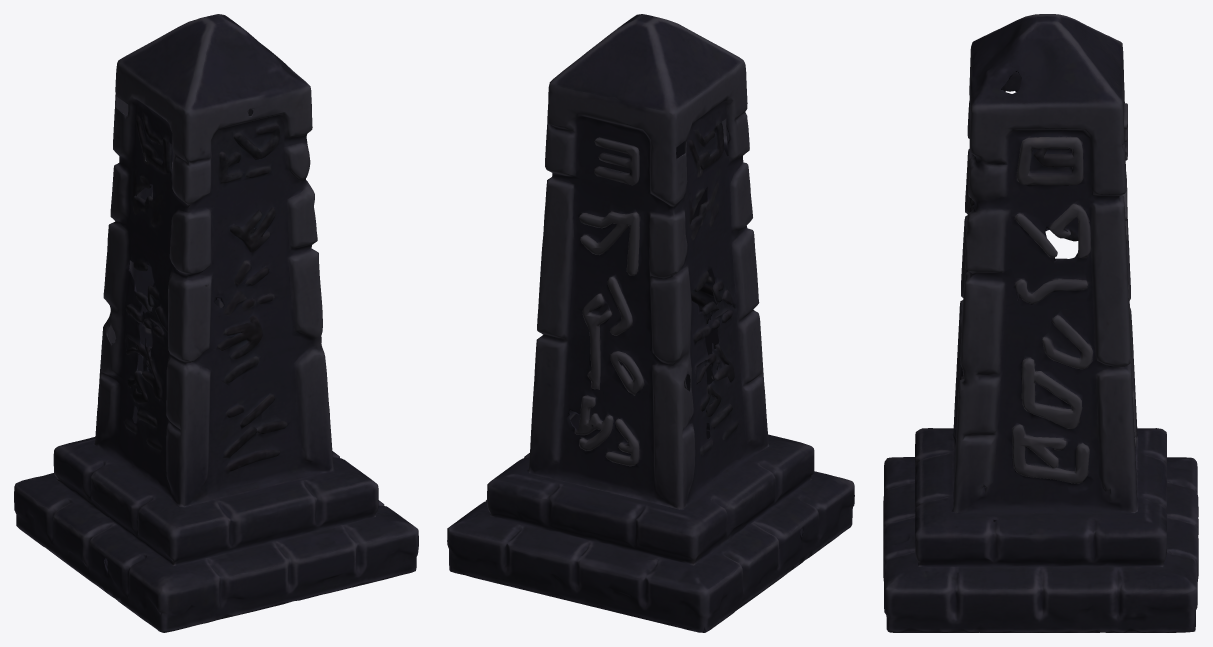
The model's file is rune_obelisk_t1.glb.
The picture shows the model from 3 angles, left to right: view 1: azimuth 30°, elevation 25°; view 2: azimuth 150°, elevation 25°; view 3: azimuth 270°, elevation 25°; orthographic projection. The views are drawn at different scales.
Parts seen in each view (by area): view 1: geometry_0; view 2: geometry_0; view 3: geometry_0.
Part boxes in pixels (<box>): geometry_0: <box>14,14,418,632</box>; geometry_0: <box>447,14,854,632</box>; geometry_0: <box>883,14,1198,632</box>.
Size of the model in its own units: 0.5187 by 1 by 0.5197.
1 material, 1 textured.
